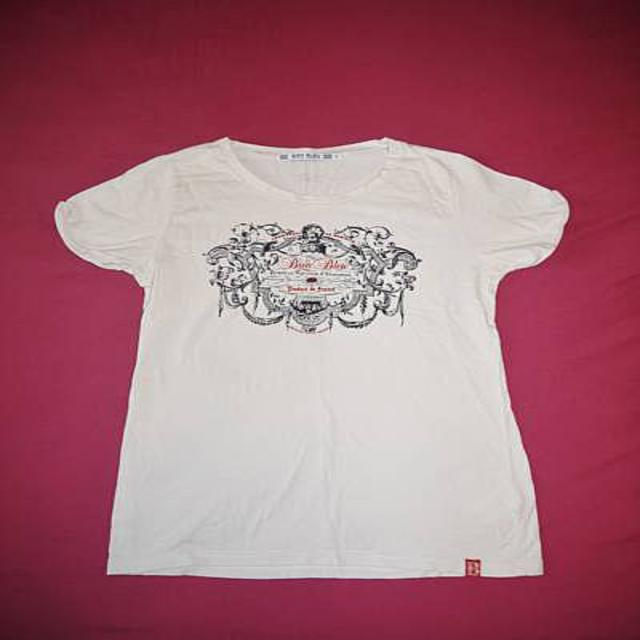T_SHIRT: (34, 130, 604, 589)
